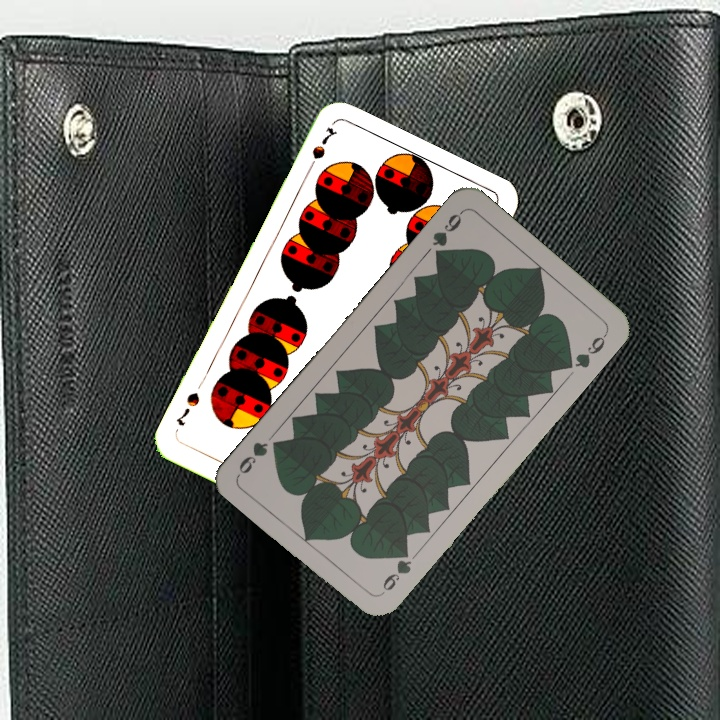G9: (427, 207, 466, 262), (377, 544, 415, 598)
S7: (302, 123, 339, 177)
